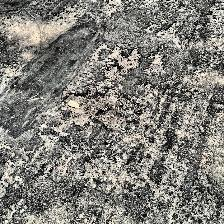pothole: (58, 86, 136, 128), (92, 44, 142, 80)
